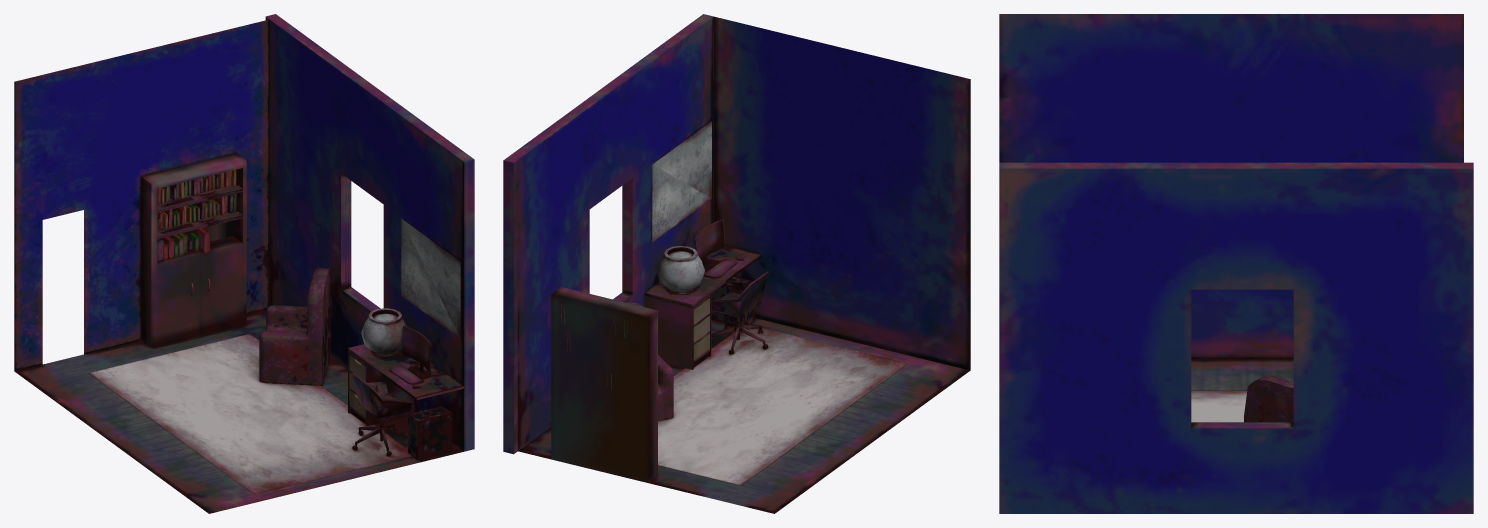
File: room2_single_texture.glb
3 renders of one model, left to right at view 1: azimuth 30°, elevation 25°; view 2: azimuth 150°, elevation 25°; view 3: azimuth 270°, elevation 25°, orthographic. The views are drawn at different scales.
Parts seen in each view (by area): view 1: mainRoomWall1005, mainRoomWall3001, carpet, mainRoomWall1006, bookshelf2, Cube001, painting3002, Desk_Wood, Cube, Jera1004, shelves3, aquarium (+5 smaller); view 2: mainRoomWall1002, mainRoomWall3001, carpet, bookshelf2, mainRoomWall1006, painting3002, Desk_Compartment, Jera1004, Desk_Wood, aquarium, Cube001, Screen (+1 smaller); view 3: mainRoomWall3001, mainRoomWall1001, mainRoomWall1006, Cube001, carpet.
Boxes of the visible parts, x1,y1,x2,y2 form: mainRoomWall1005: (14, 19, 269, 371); mainRoomWall3001: (265, 14, 474, 451); carpet: (89, 333, 411, 494); mainRoomWall1006: (14, 310, 463, 513); bookshelf2: (140, 153, 246, 348); Cube001: (259, 268, 330, 385); painting3002: (401, 218, 460, 338); Desk_Wood: (348, 344, 464, 400); Cube: (408, 406, 452, 460); Jera1004: (351, 373, 412, 456); shelves3: (157, 184, 242, 238); aquarium: (361, 308, 407, 356); mainRoomWall1002: (713, 16, 970, 370); mainRoomWall3001: (503, 14, 713, 454); carpet: (658, 324, 906, 485); bookshelf2: (551, 287, 657, 482); mainRoomWall1006: (518, 318, 970, 513); painting3002: (652, 121, 711, 241); Desk_Compartment: (644, 294, 711, 369); Jera1004: (711, 271, 768, 354); Desk_Wood: (644, 245, 761, 306); aquarium: (656, 246, 704, 294); Cube001: (627, 302, 673, 420); Screen: (694, 219, 725, 260); mainRoomWall3001: (999, 162, 1473, 513); mainRoomWall1001: (999, 14, 1463, 359); mainRoomWall1006: (1191, 359, 1293, 390); Cube001: (1244, 375, 1293, 422); carpet: (1191, 391, 1247, 422).
Size of the model in its own units: 3462 by 3609 by 4490.
1 material, 1 textured.
